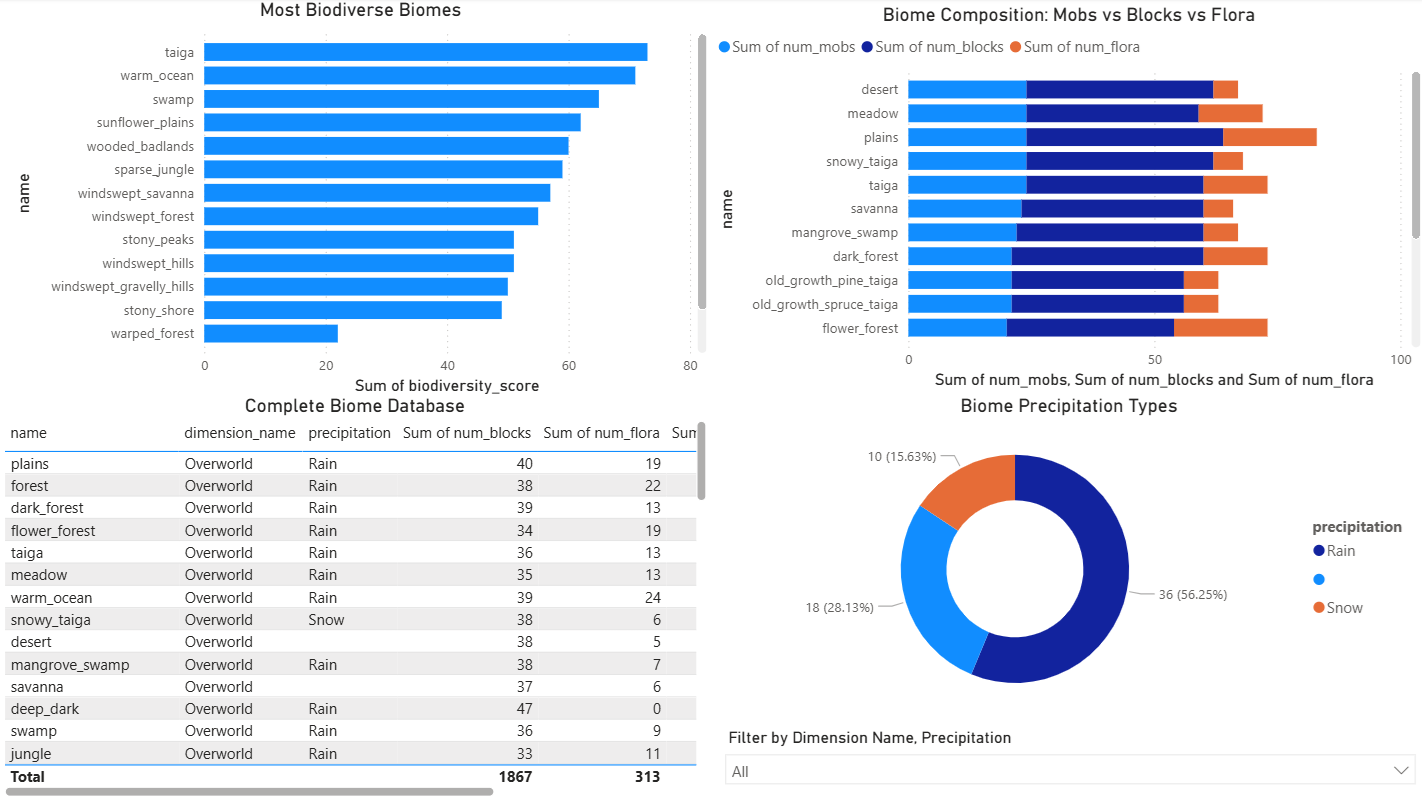

This screenshot's page, from the dashboard's own definition file:
{"tool":"powerbi","page":{"name":"Biome Explorer","canvas":[1280,720],"ordinal":2},"visuals":[{"type":"clusteredBarChart","title":"Most Biodiverse Biomes","fields":{"Category":["biomes_enriched.name"],"Y":["Sum(biomes_enriched.biodiversity_score)"]},"box":[10.3,0,630.4,360],"z":0},{"type":"barChart","title":"Biome Composition: Mobs vs Blocks vs Flora","fields":{"Category":["biomes_enriched.name"],"Y":["Sum(biomes_enriched.num_mobs)","Sum(biomes_enriched.num_blocks)","Sum(biomes_enriched.num_flora)"]},"box":[640,4,640,350.9],"z":1},{"type":"tableEx","title":"Complete Biome Database","fields":{"Values":["biomes_enriched.name","biomes_enriched.dimension_name","biomes_enriched.precipitation","Sum(biomes_enriched.num_blocks)","Sum(biomes_enriched.num_flora)","Sum(biomes_enriched.num_mobs)","Sum(biomes_enriched.biodiversity_score)"]},"box":[0,355,640,365.7],"z":2},{"type":"donutChart","title":"Biome Precipitation Types","fields":{"Category":["biomes_enriched.precipitation"],"Y":["Count(biomes_enriched.name)"]},"box":[640,355,640,294.5],"z":3},{"type":"slicer","fields":{"Values":["biomes_enriched.dimension_name","biomes_enriched.precipitation"]},"box":[641.3,649.4,638.7,71.3],"z":4}]}

Visuals, with their boxes in screenshot pixels (x1, y1, x2, y2), scaled from the page's 1280x720 canvas onto the 1422x796 screenshot:
"Most Biodiverse Biomes" clusteredBarChart: bbox=[11, 0, 712, 398]
"Biome Composition: Mobs vs Blocks vs Flora" barChart: bbox=[711, 4, 1421, 392]
"Complete Biome Database" tableEx: bbox=[0, 392, 711, 795]
"Biome Precipitation Types" donutChart: bbox=[711, 392, 1421, 718]
slicer - biomes_enriched.dimension_name x biomes_enriched.precipitation: bbox=[712, 718, 1421, 795]
